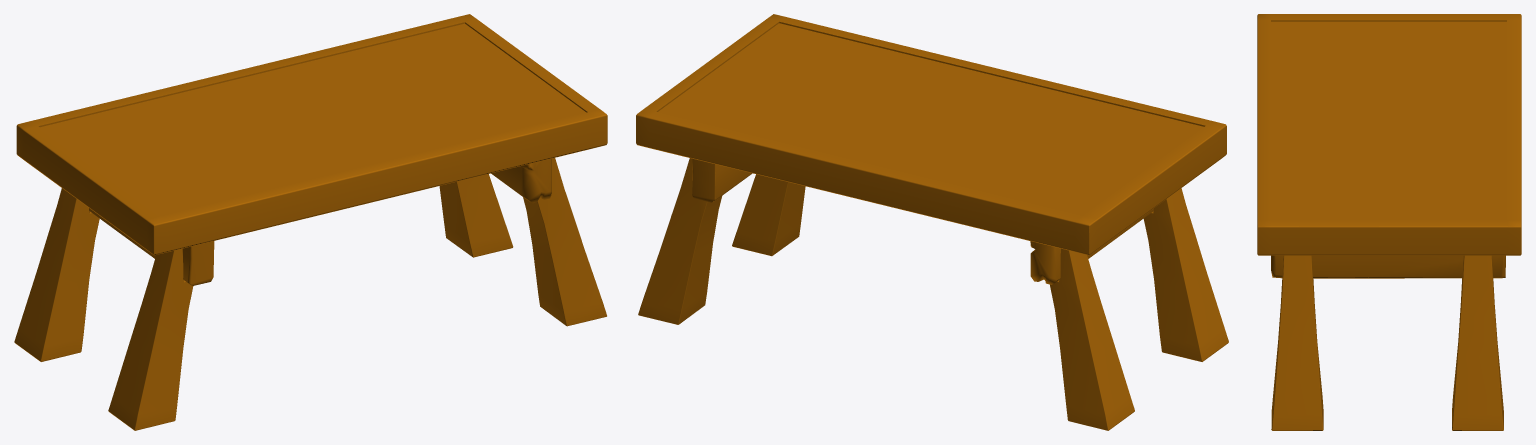
File: Mod_table_LODs.fbx
3 views of the same model, side by side, from view 1: azimuth 30°, elevation 25°; view 2: azimuth 150°, elevation 25°; view 3: azimuth 270°, elevation 25° (orthographic). The views are drawn at different scales.
Visible parts, largest first — view 1: table_LOD0; view 2: table_LOD0; view 3: table_LOD0.
Part boxes in pixels (left/top/right/bottom): table_LOD0: left=14, top=14, right=607, bottom=430; table_LOD0: left=636, top=14, right=1228, bottom=430; table_LOD0: left=1257, top=14, right=1521, bottom=430.
Size of the model in its own units: 198 by 84.06 by 99.93.
